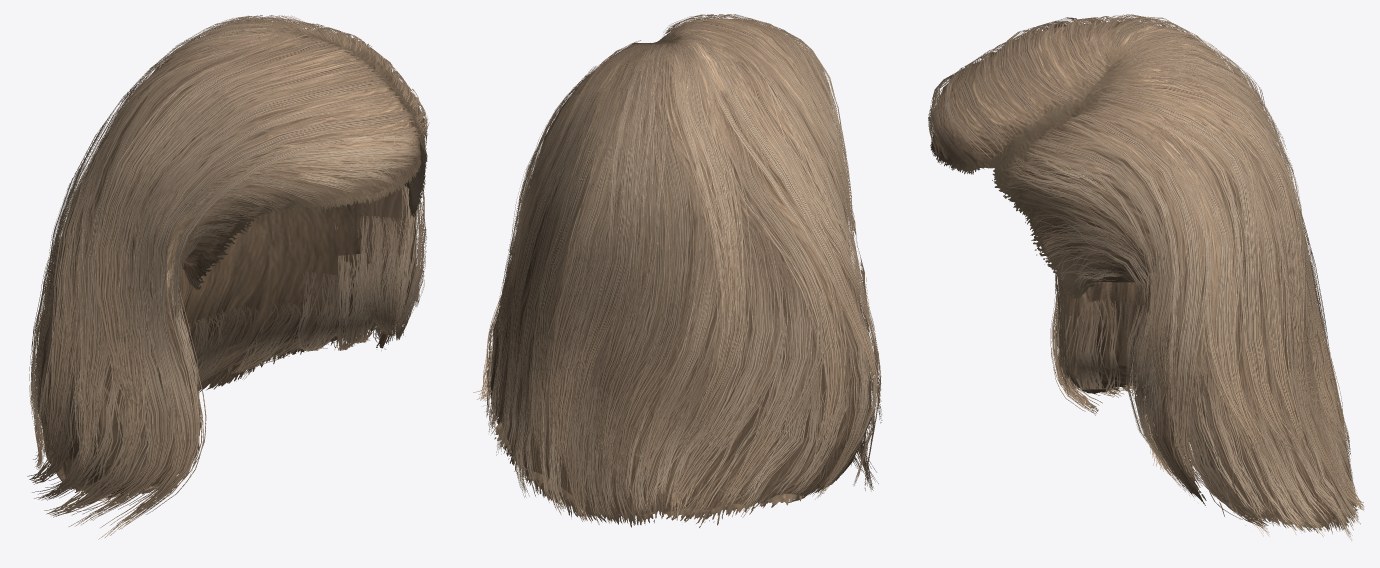
File: hair_009.obj
3 renders of one model, left to right at view 1: azimuth 30°, elevation 25°; view 2: azimuth 150°, elevation 25°; view 3: azimuth 270°, elevation 25°, orthographic. The views are drawn at different scales.
Parts seen in each view (by area): view 1: Hair_009_Mesh; view 2: Hair_009_Mesh; view 3: Hair_009_Mesh.
Part boxes in pixels (x1,y1,x2,y2): Hair_009_Mesh: (27,15,429,539); Hair_009_Mesh: (473,14,882,527); Hair_009_Mesh: (928,14,1364,540).
Bounding box in the file's own units: 27.67 × 30.09 × 24.14.
3 materials, 3 textured.
